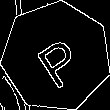P_NW: (27, 26, 85, 88)
